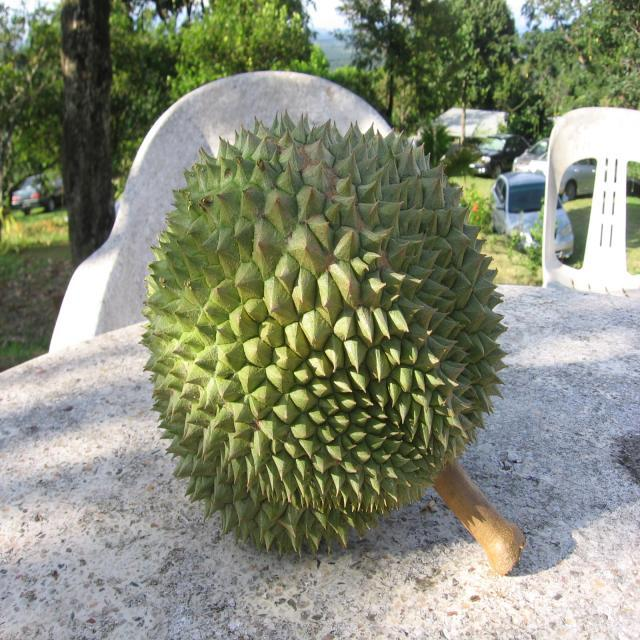immature: (138, 108, 504, 562)
